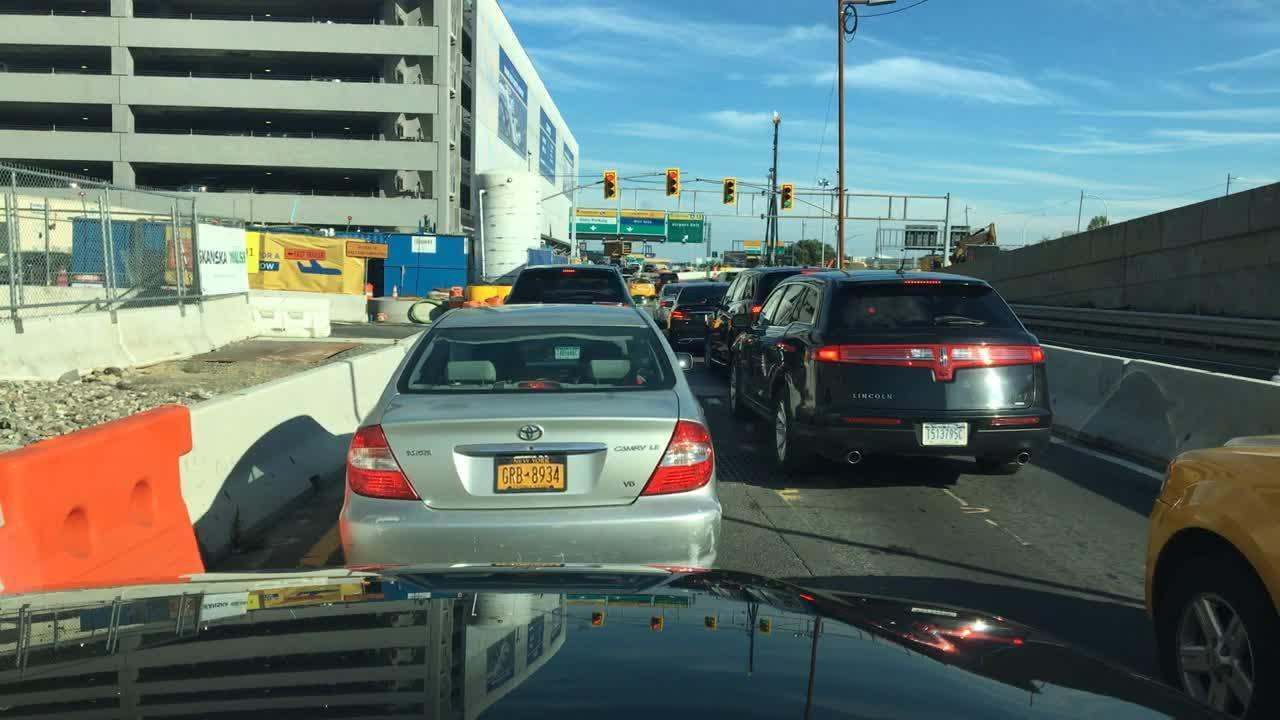Toyota: (504, 419, 557, 451)
lincoln: (934, 340, 953, 377)
